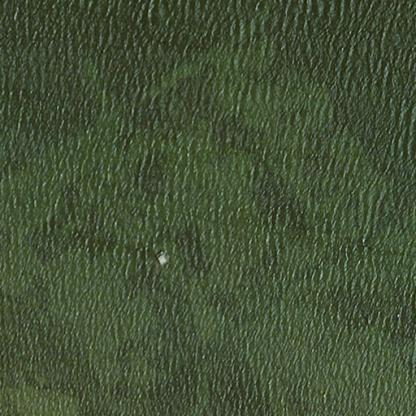ship: (153, 256, 168, 260)
